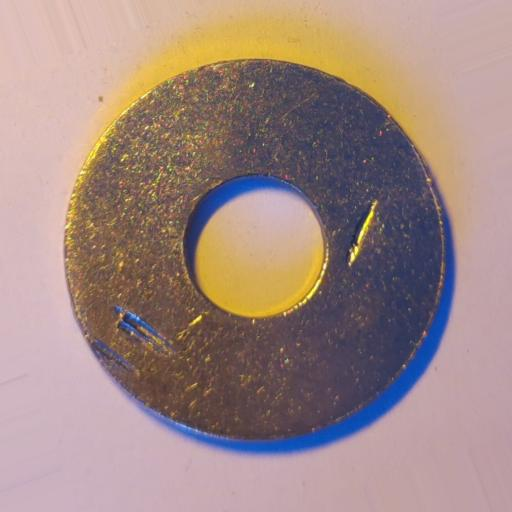scratch: (114, 304, 172, 358), (347, 199, 379, 269), (87, 333, 134, 375)
